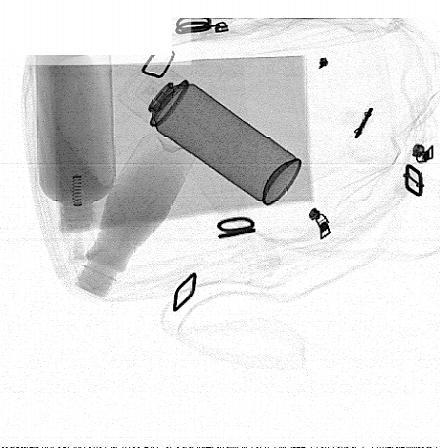Sprayer: (119, 55, 302, 205)
